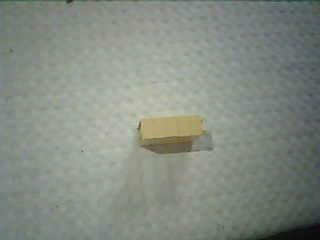lego: (133, 112, 205, 146)
